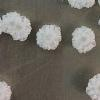white: (35, 23, 62, 53), (71, 25, 97, 55), (11, 15, 32, 42), (0, 10, 19, 34), (85, 73, 100, 100), (66, 0, 97, 9), (0, 80, 12, 100)
